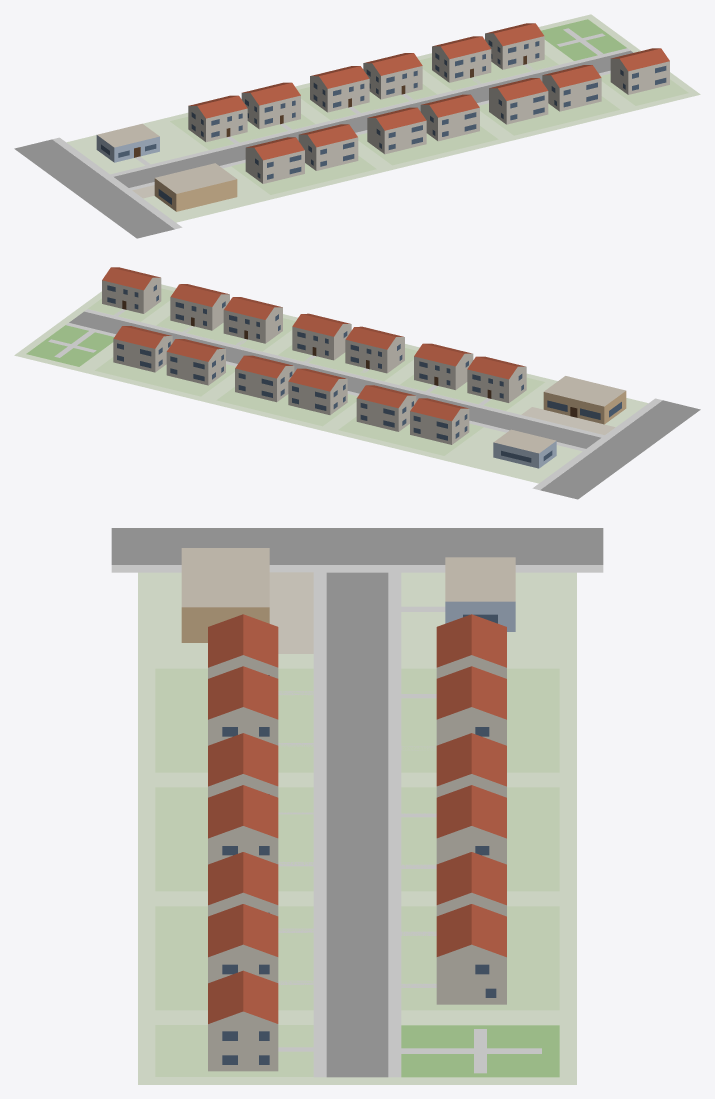
Rendered from ICT_01_Conjunto_3D.obj.
The picture shows the model from 3 angles, top to bottom: view 1: azimuth 30°, elevation 25°; view 2: azimuth 150°, elevation 25°; view 3: azimuth 270°, elevation 25°; orthographic projection. The views are drawn at different scales.
Visible parts, largest first — view 1: Terreno, Vial_publico, Vial_interior, LC1, V09, V01, V07, V13, V05, V11, V03, V08 (+22 smaller); view 2: Terreno, Vial_publico, Vial_interior, LC1, V03, V07, V13, V01, V09, V11, V05, V02 (+24 smaller); view 3: Terreno, Vial_interior, Vial_publico, ZC2_zona_verde, Acera_sur, Acera_norte, LC1, V13, V06, Jardin_V06, Jardin_V13, V02 (+24 smaller).
Part boxes in pixels (left/top/right/bottom): Terreno: left=66, top=14, right=700, bottom=222; Vial_publico: left=14, top=139, right=174, bottom=238; Vial_interior: left=114, top=50, right=633, bottom=187; LC1: left=154, top=163, right=237, bottom=211; V09: left=367, top=107, right=426, bottom=154; V01: left=188, top=95, right=247, bottom=142; V07: left=245, top=137, right=304, bottom=183; V13: left=610, top=48, right=669, bottom=94; V05: left=432, top=36, right=491, bottom=82; V11: left=489, top=78, right=548, bottom=124; V03: left=310, top=66, right=369, bottom=112; V08: left=298, top=124, right=358, bottom=170; Terreno: left=14, top=284, right=648, bottom=483; Vial_publico: left=540, top=400, right=700, bottom=499; Vial_interior: left=69, top=311, right=600, bottom=448; LC1: left=543, top=376, right=626, bottom=424; V03: left=288, top=368, right=347, bottom=414; V07: left=467, top=356, right=526, bottom=402; V13: left=102, top=267, right=161, bottom=313; V01: left=410, top=398, right=469, bottom=444; V09: left=345, top=326, right=404, bottom=373; V11: left=223, top=297, right=282, bottom=343; V05: left=166, top=339, right=225, bottom=385; V02: left=356, top=385, right=416, bottom=431; Terreno: left=138, top=572, right=576, bottom=1084; Vial_interior: left=326, top=572, right=388, bottom=1077; Vial_publico: left=111, top=528, right=603, bottom=564; ZC2_zona_verde: left=401, top=1025, right=559, bottom=1077; Acera_sur: left=313, top=572, right=326, bottom=1077; Acera_norte: left=388, top=572, right=401, bottom=1077; LC1: left=181, top=548, right=269, bottom=642; V13: left=208, top=970, right=278, bottom=1071; V06: left=436, top=904, right=506, bottom=1004; Jardin_V06: left=401, top=958, right=559, bottom=1010; Jardin_V13: left=155, top=1025, right=313, bottom=1076; V02: left=436, top=666, right=506, bottom=745.
Size of the model in its own units: 150 by 7.6 by 56.
